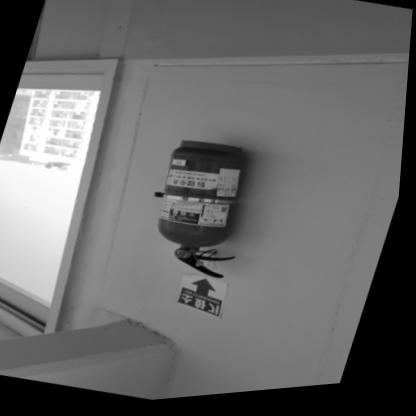FE: (144, 134, 271, 291)
